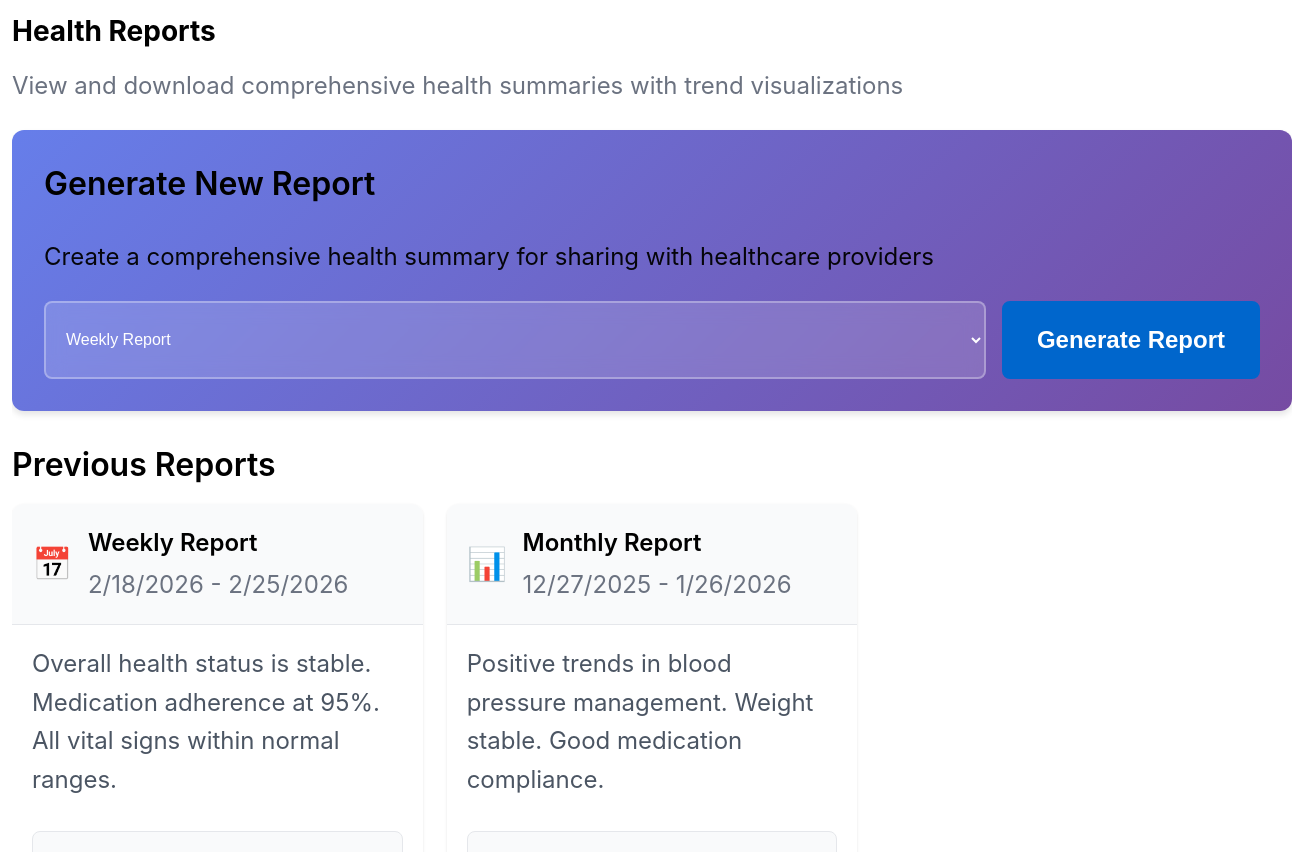
HealthReportsWidget › Report Generation › handles report generation
The image size is (1292, 852).
What coordinates should you click on to do the following:
click the button "Generate Report"
I would click on:
 (1131, 340)
Its box is [1002, 301, 1260, 379].
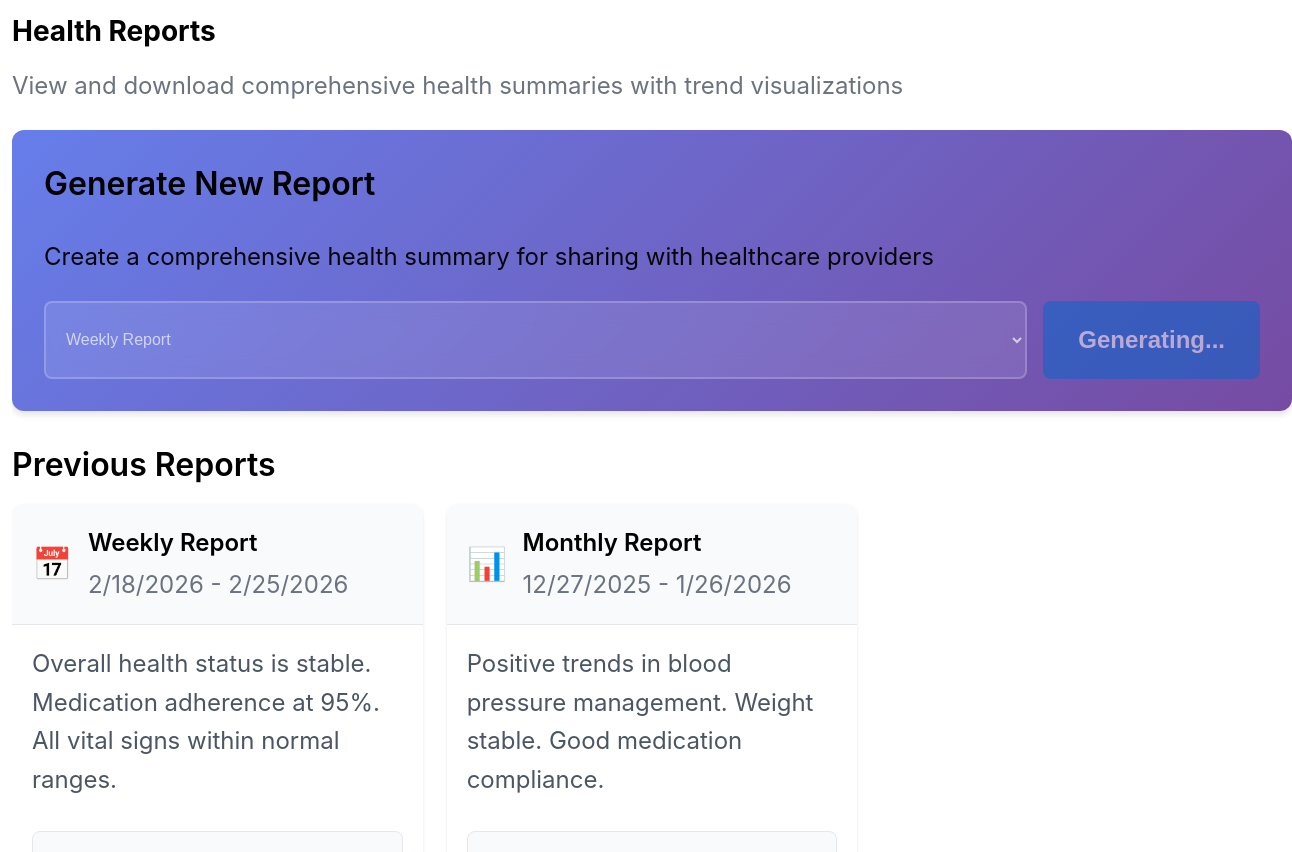
Now the button "Generating..." is shown, box [1043, 301, 1260, 379]
